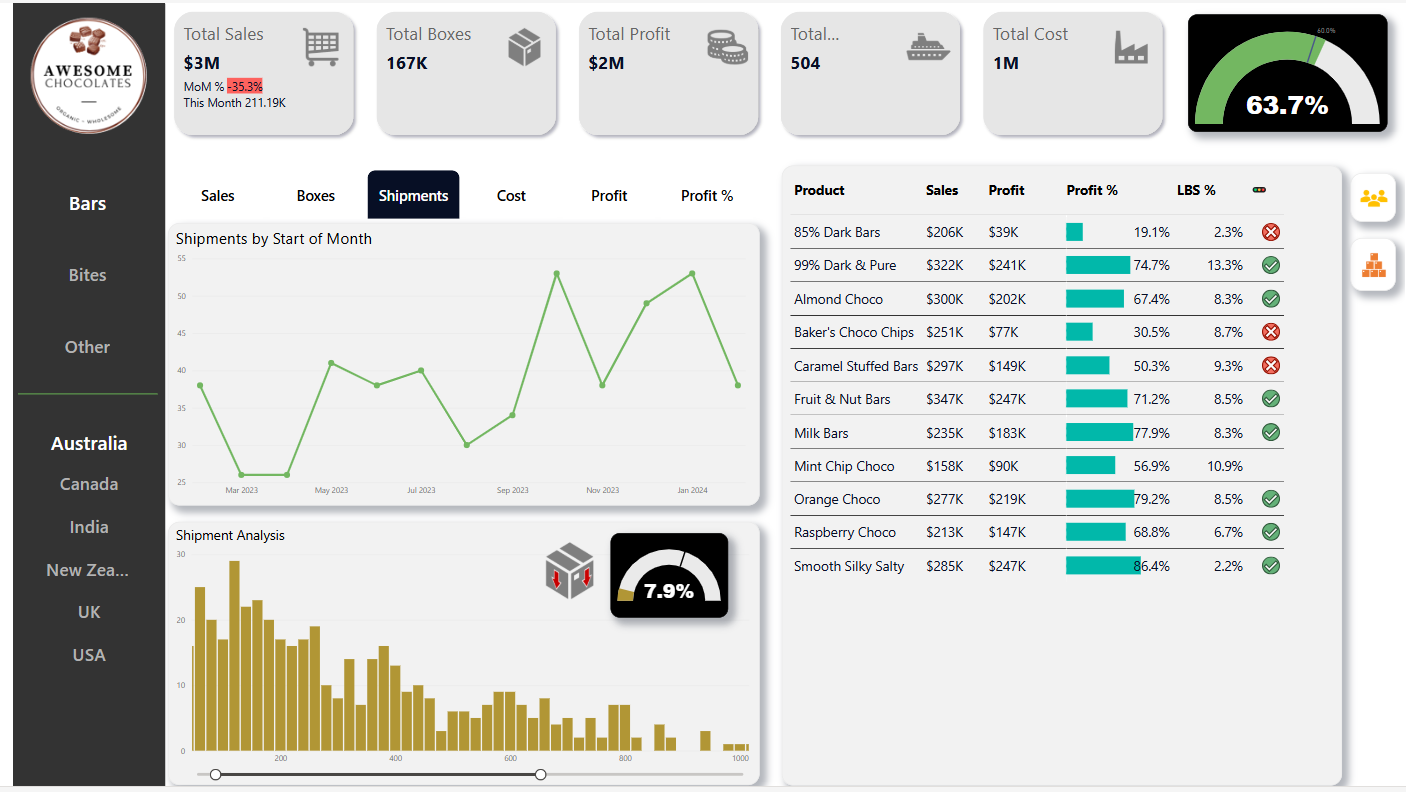

This screenshot's page, from the dashboard's own definition file:
{"tool":"powerbi","page":{"name":"Sales Report","canvas":[1920,1080],"ordinal":2},"visuals":[{"type":"shape","box":[0,0,210,1080],"z":0},{"type":"cardVisual","fields":{"Data":["_measures.Total Sales","_measures.Total Boxes","_measures.Total Profit","_measures.Total Shipments","_measures.Total Cost"]},"box":[209.9,0,1387.2,194.8],"z":1000},{"type":"gauge","fields":{"Y":["_measures.Profit %"]},"box":[1620.9,15.1,274.8,162.3],"z":2000},{"type":"image","box":[17.5,15,175,170],"z":3000},{"type":"lineChart","fields":{"Y":["_measures.Total Shipments"],"Category":["calendar.Start of Month"]},"box":[214.3,303,815.9,389.5],"z":4000},{"type":"advancedSlicerVisual","fields":{"Values":["Measure Selector.Measure Selector"]},"box":[214.3,225.1,815.9,77.9],"z":5000},{"type":"columnChart","title":"Shipment Analysis","fields":{"Category":["shipments.Boxes (bins)"],"Y":["_measures.Total Shipments"]},"box":[214.3,716.3,815.9,363.6],"z":6000},{"type":"gauge","fields":{"Y":["_measures.LBS %"]},"box":[824.5,731.5,162.3,116.9],"z":7000},{"type":"image","box":[709.8,731.5,114.7,103.9],"z":8000},{"type":"tableEx","title":"People detail Table","fields":{"Values":["people.Picture","people.Sales person","_measures.Total Sales","_measures.Total Profit","_measures.Profit %","_measures.LBS %","_measures.Profit Target indicator"]},"box":[1060,225,772.5,855],"z":9000},{"type":"image","title":"People icon","box":[1845,235,62.5,67.5],"z":11000},{"type":"image","title":"Product icon","box":[1845,325,62.5,72.5],"z":12000},{"type":"advancedSlicerVisual","fields":{"Values":["products.Category"]},"box":[25,225,157.5,300],"z":13000},{"type":"advancedSlicerVisual","fields":{"Values":["locations.Geo"]},"box":[28.1,569.2,155.8,359.2],"z":14000},{"type":"shape","box":[7.5,510,192.5,57.5],"z":15002}]}

Visuals, with their boxes in screenshot pixels (x1, y1, x2, y2), scaled from the page's 1920x1080 canvas onto the 1406x792 screenshot:
shape: [left=0, top=0, right=154, bottom=791]
cardVisual - _measures.Total Sales x _measures.Total Boxes: [left=154, top=0, right=1170, bottom=143]
gauge - _measures.Profit %: [left=1187, top=11, right=1388, bottom=130]
image: [left=13, top=11, right=141, bottom=136]
lineChart - _measures.Total Shipments x calendar.Start of Month: [left=157, top=222, right=754, bottom=508]
advancedSlicerVisual - Measure Selector.Measure Selector: [left=157, top=165, right=754, bottom=222]
"Shipment Analysis" columnChart: [left=157, top=525, right=754, bottom=791]
gauge - _measures.LBS %: [left=604, top=536, right=723, bottom=622]
image: [left=520, top=536, right=604, bottom=613]
"People detail Table" tableEx: [left=776, top=165, right=1342, bottom=791]
"People icon" image: [left=1351, top=172, right=1397, bottom=222]
"Product icon" image: [left=1351, top=238, right=1397, bottom=292]
advancedSlicerVisual - products.Category: [left=18, top=165, right=134, bottom=385]
advancedSlicerVisual - locations.Geo: [left=21, top=417, right=135, bottom=681]
shape: [left=5, top=374, right=146, bottom=416]
